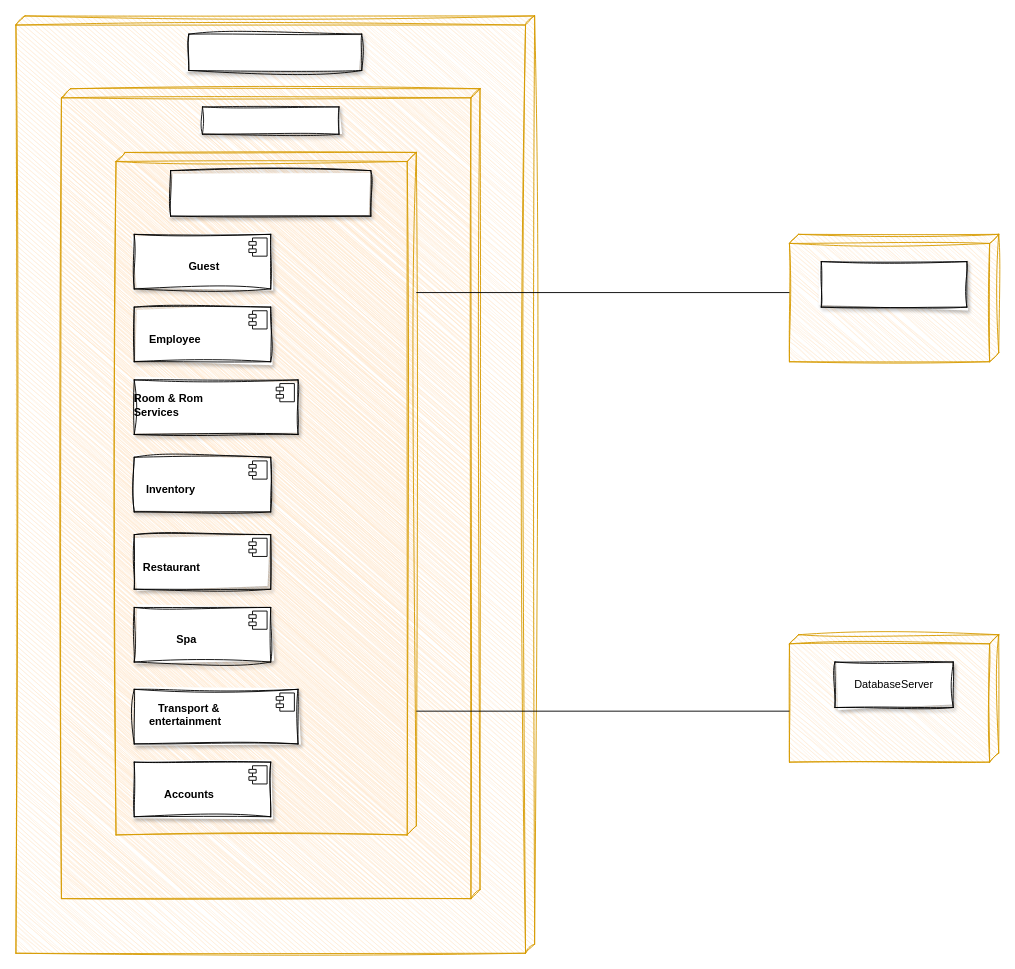
This 1015x969 diagram has some shape labels left out. Each missing label, with the centre of its shape:
"<<ApplicationServer>> HotelManagementServer" belongs at [271,194].
"<<ClientWorkStation>> PC" belongs at [275,53].
"<<OS>> Windows 8" belongs at [271,121].
"<<PrinterServer>> Client Printer" belongs at [894,285].
